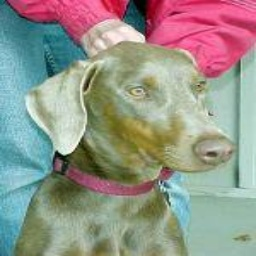dog: (16, 42, 234, 256)
